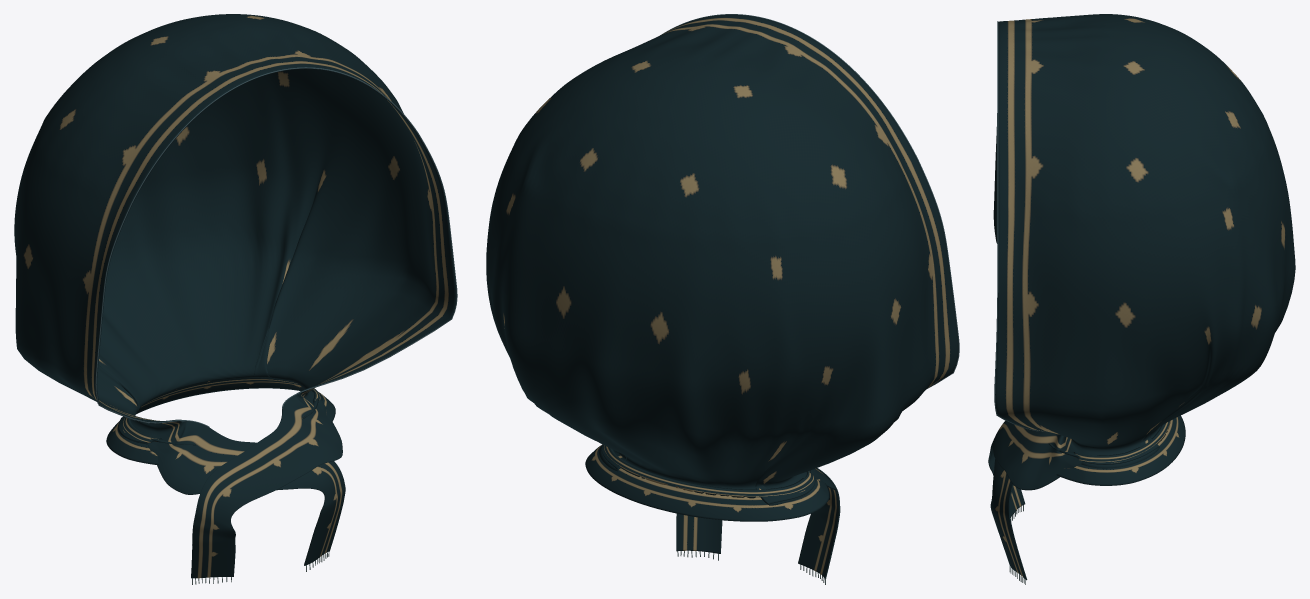
Rendered from Feminine-jersey-pashmina241-headgear.glb.
3 views of the same model, side by side, from view 1: azimuth 30°, elevation 25°; view 2: azimuth 150°, elevation 25°; view 3: azimuth 270°, elevation 25° (orthographic). The views are drawn at different scales.
Parts seen in each view (by area): view 1: 226 headgear / Headwear / continuous woven pashmina239, 226 headgear / Headwear / face edge239; view 2: 226 headgear / Headwear / continuous woven pashmina239, 226 headgear / Headwear / face edge239; view 3: 226 headgear / Headwear / continuous woven pashmina239, 226 headgear / Headwear / face edge239.
Boxes of the visible parts, x1,y1,x2,y2 form: 226 headgear / Headwear / continuous woven pashmina239: (14, 14, 456, 578); 226 headgear / Headwear / face edge239: (95, 67, 457, 427); 226 headgear / Headwear / continuous woven pashmina239: (486, 14, 958, 578); 226 headgear / Headwear / face edge239: (661, 14, 959, 388); 226 headgear / Headwear / continuous woven pashmina239: (988, 14, 1295, 580); 226 headgear / Headwear / face edge239: (994, 21, 1044, 431).
Bounding box in the file's own units: 1.02 × 1.35 × 0.7243.
3 materials, 1 textured.
